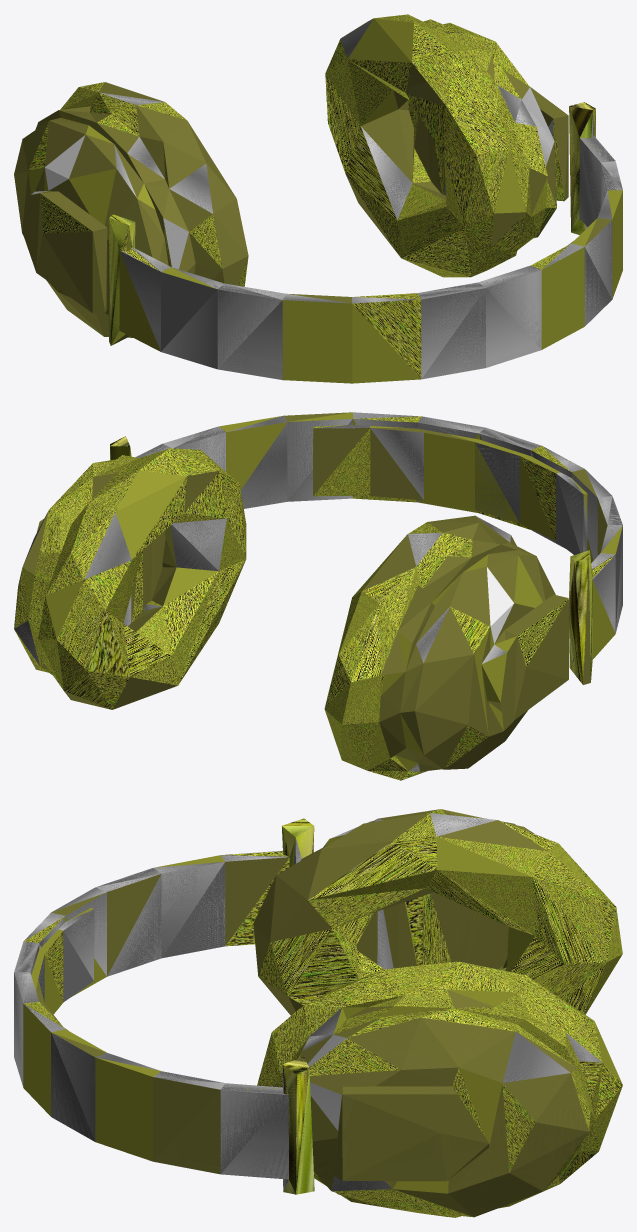
The model's file is model_align.obj.
3 views of the same model, one above another, from view 1: azimuth 30°, elevation 25°; view 2: azimuth 150°, elevation 25°; view 3: azimuth 270°, elevation 25° (orthographic). The views are drawn at different scales.
Size of the model in its own units: 0.1651 by 0.0764 by 0.1696.
